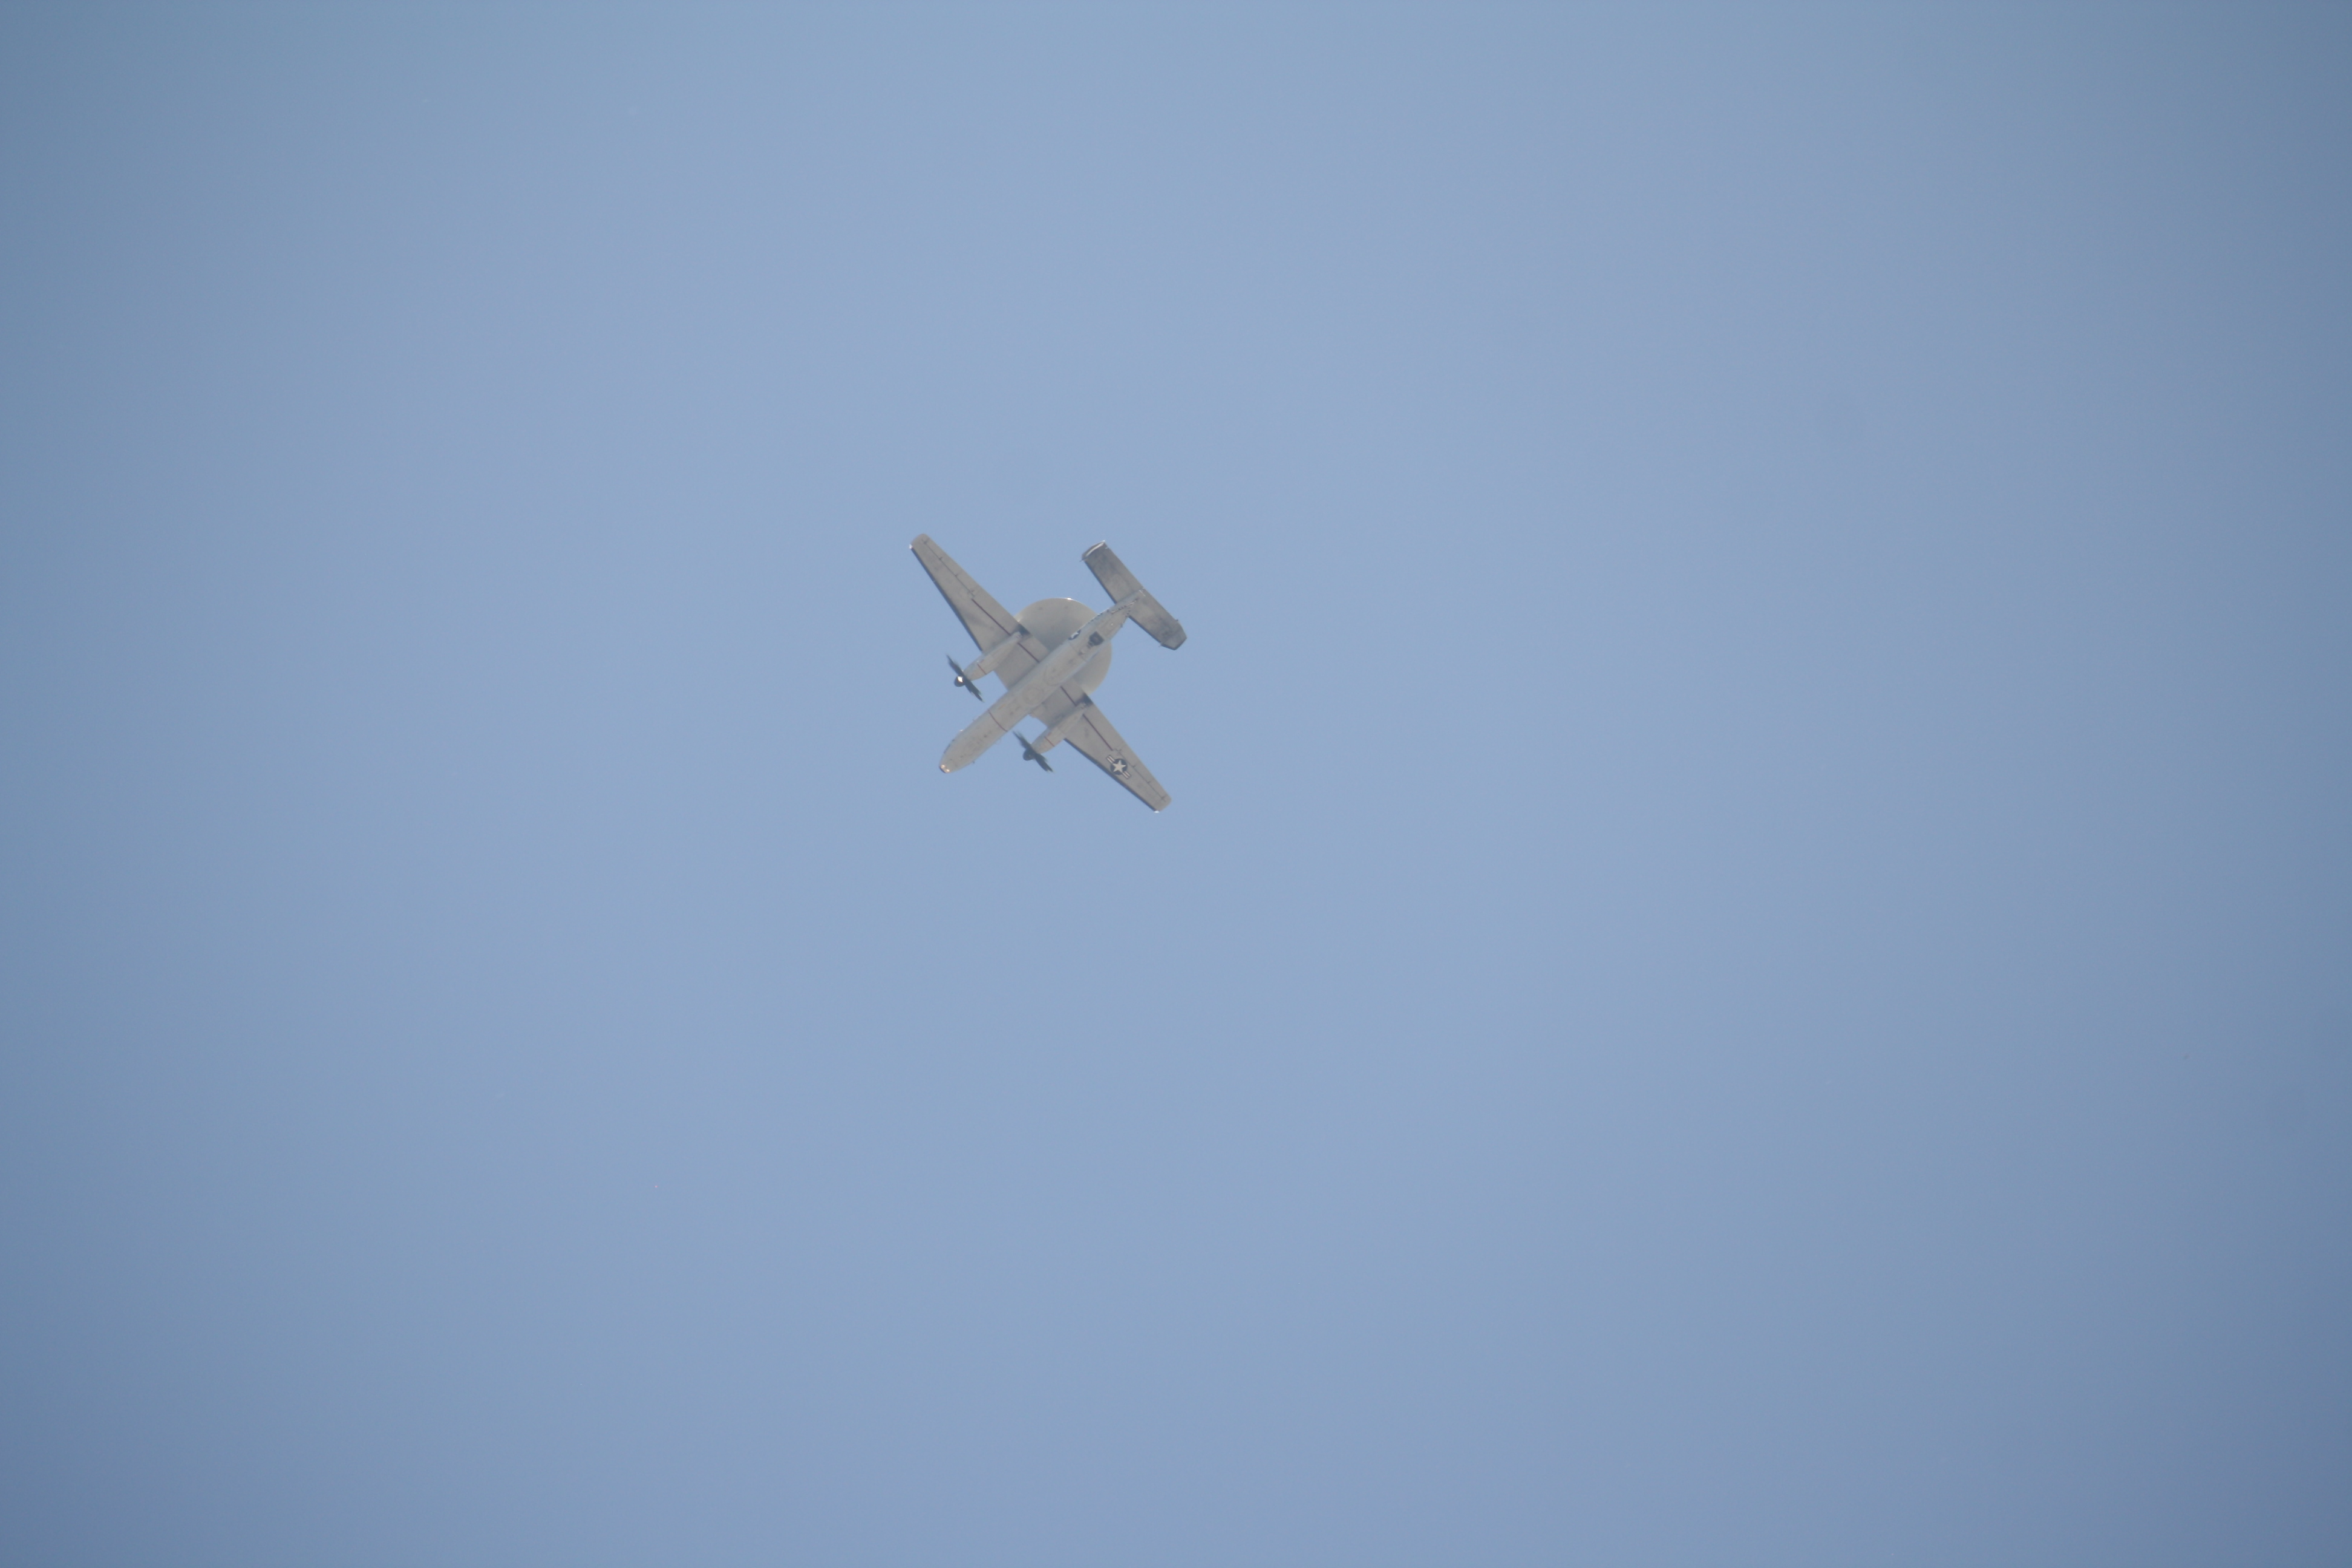E2: (908, 534, 1188, 814)
